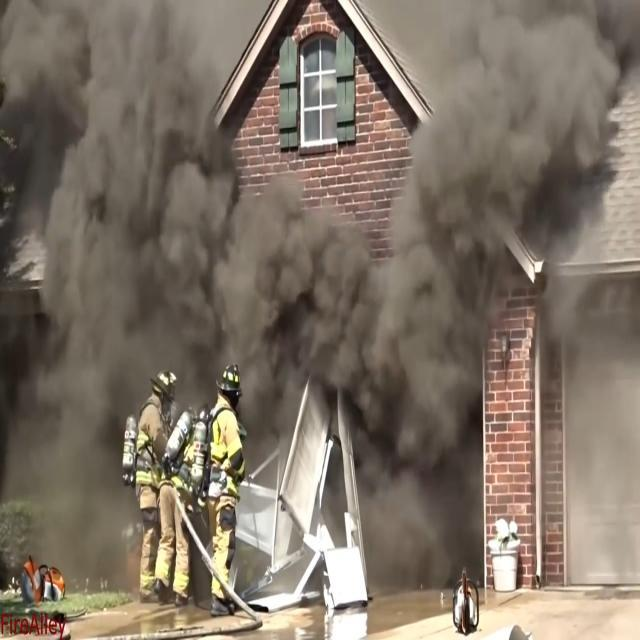Smoke: (362, 38, 626, 426), (34, 29, 334, 354)
